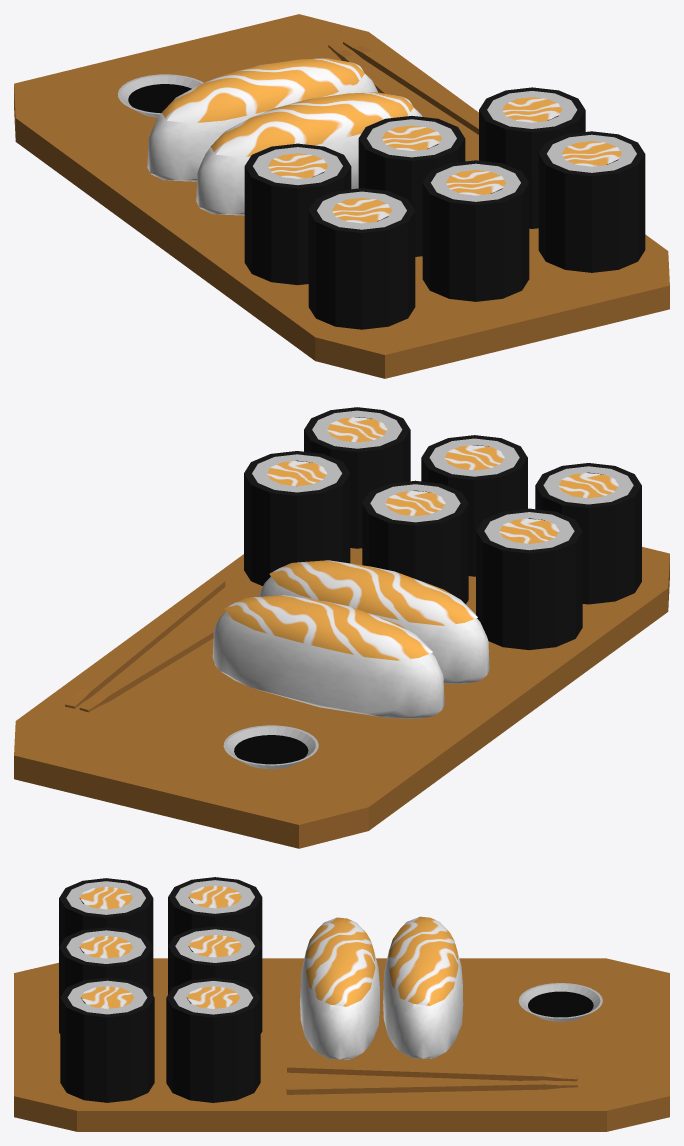
File: sushi.fbx
3 views of the same model, one above another, from view 1: azimuth 30°, elevation 25°; view 2: azimuth 150°, elevation 25°; view 3: azimuth 270°, elevation 25° (orthographic). The views are drawn at different scales.
Visible parts, largest first — view 1: Cube.009, Cylinder.003, Cylinder.002, Cylinder.006, Cube.012, Cube.013, Cylinder.007, Cylinder.005, Cylinder.004, Cylinder.001, Cube.010, Cube.011; view 2: Cube.009, Cube.012, Cylinder.007, Cylinder.004, Cube.013, Cylinder.005, Cylinder.006, Cylinder.002, Cylinder.003, Cylinder.001, Cube.010, Cube.011; view 3: Cube.009, Cylinder.002, Cylinder.004, Cube.012, Cube.013, Cylinder.005, Cylinder.003, Cylinder.006, Cylinder.007, Cube.010, Cube.011, Cylinder.001.
Part boxes in pixels (x1,y1,x2,y2): Cube.009: [14, 14, 669, 378]; Cylinder.003: [422, 160, 529, 301]; Cylinder.002: [538, 131, 645, 272]; Cylinder.006: [308, 188, 415, 329]; Cube.012: [147, 58, 377, 181]; Cube.013: [196, 92, 422, 215]; Cylinder.007: [244, 143, 351, 285]; Cylinder.005: [358, 116, 465, 256]; Cylinder.004: [479, 87, 585, 228]; Cylinder.001: [118, 74, 203, 117]; Cube.010: [343, 39, 478, 134]; Cube.011: [328, 43, 471, 161]; Cube.009: [14, 547, 669, 848]; Cube.012: [212, 595, 444, 718]; Cylinder.007: [476, 508, 582, 650]; Cylinder.004: [244, 451, 350, 585]; Cube.013: [259, 560, 489, 684]; Cylinder.005: [362, 480, 468, 604]; Cylinder.006: [535, 463, 641, 604]; Cylinder.002: [304, 407, 410, 548]; Cylinder.003: [421, 435, 527, 576]; Cylinder.001: [223, 725, 318, 769]; Cube.010: [65, 579, 225, 708]; Cube.011: [79, 622, 217, 712]; Cube.009: [14, 958, 669, 1131]; Cylinder.002: [60, 977, 154, 1102]; Cylinder.004: [166, 977, 260, 1102]; Cube.012: [383, 916, 463, 1058]; Cube.013: [300, 917, 379, 1059]; Cylinder.005: [168, 926, 262, 1033]; Cylinder.003: [59, 927, 153, 1033]; Cylinder.006: [59, 878, 153, 946]; Cylinder.007: [168, 877, 262, 945]; Cube.010: [286, 1080, 577, 1094]; Cube.011: [287, 1063, 577, 1081]; Cylinder.001: [518, 983, 602, 1021].
Bounding box in the file's own units: 6.23 × 2.07 × 11.34.
7 materials, 2 textured.
